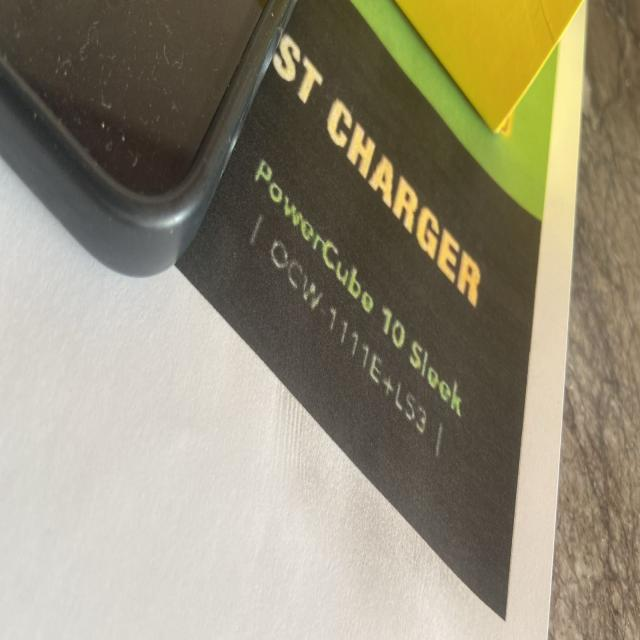PowerCube 10 Sleek OCW-1111ExL53: (244, 148, 469, 469)
